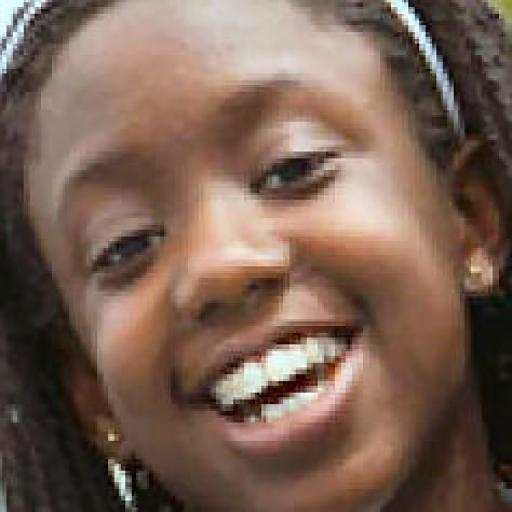Autism: (8, 12, 511, 510)
